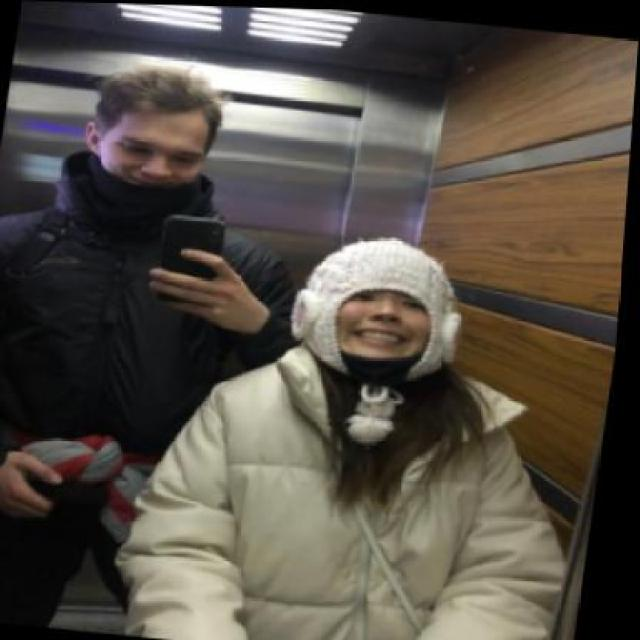hat: (295, 237, 466, 374)
